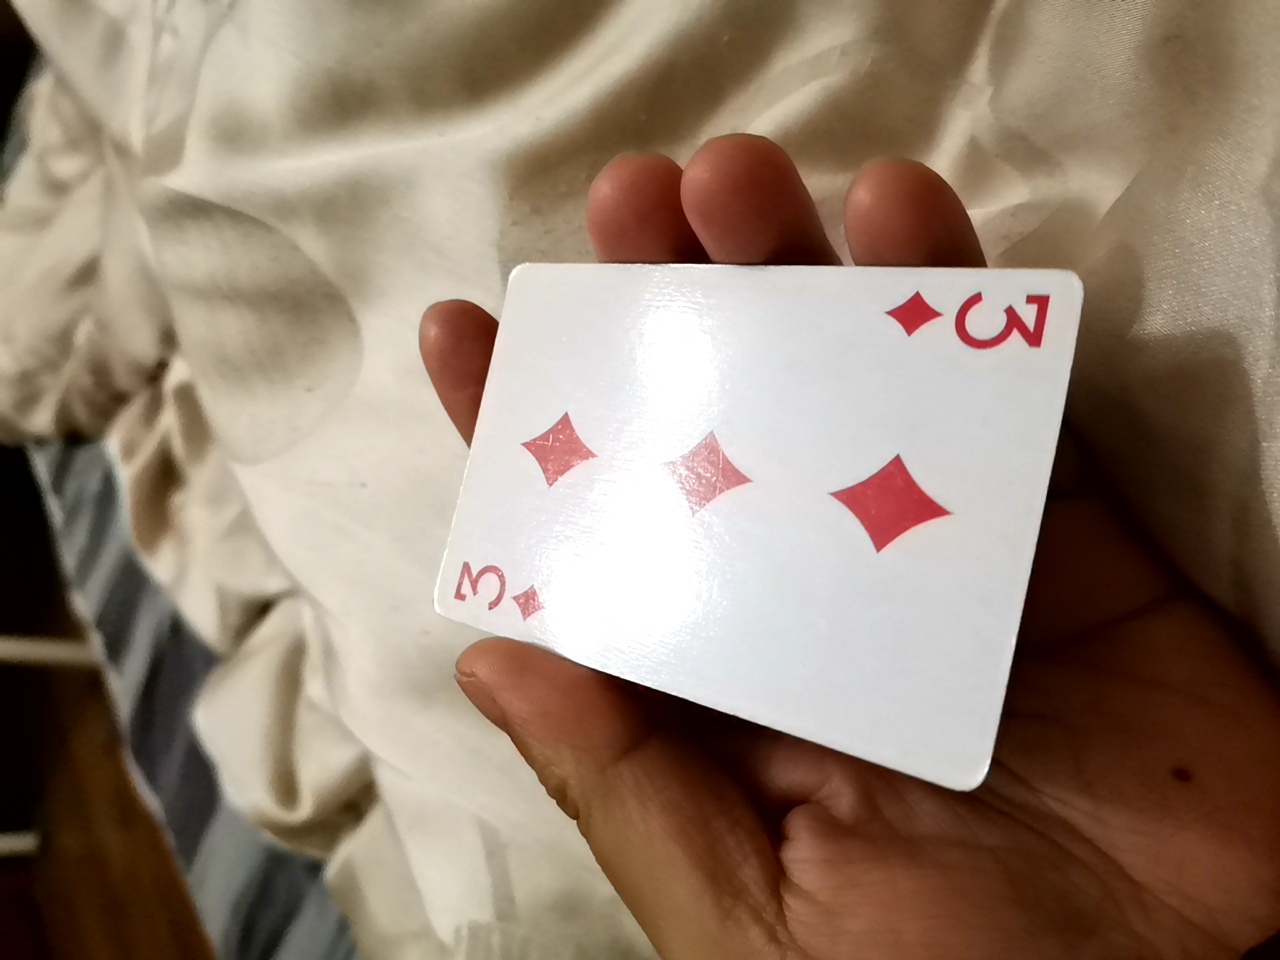fk 3: (389, 240, 1082, 766)
